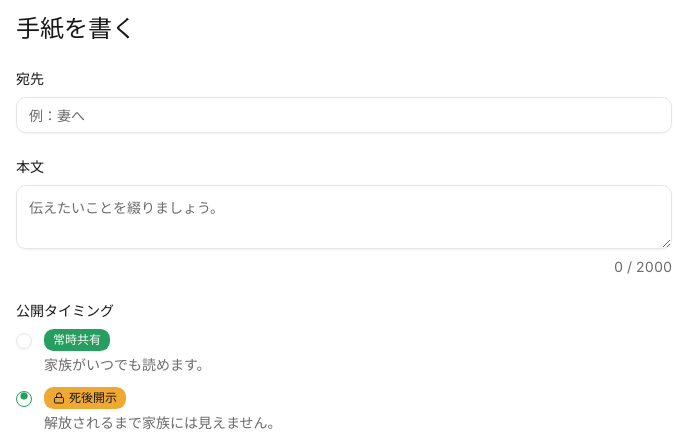
Test case: MessageForm (create mode) › shows a character counter that updates with the body input
Check: the text "0 / 2000" is shown, box [614,257,672,277]
Step 1. Type "ありがとう。" into the text box labelled "本文" → (344, 217), box [16,185,672,249]
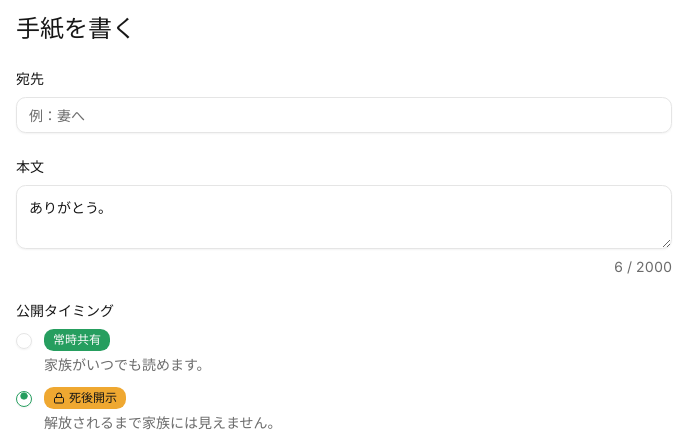
Check: the text "6 / 2000" is shown, box [614,257,672,277]
